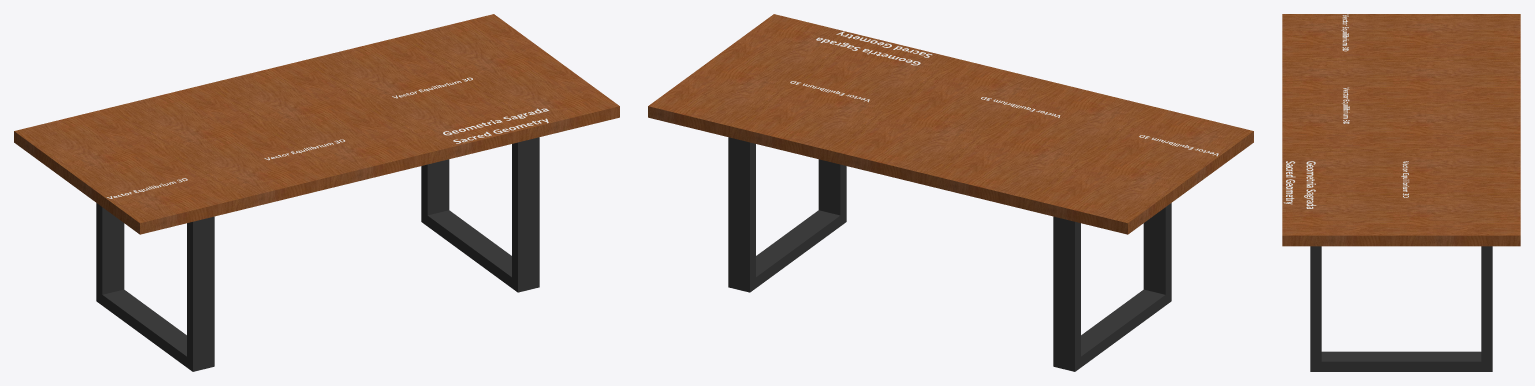
File: geomSagrada7.glb
3 renders of one model, left to right at view 1: azimuth 30°, elevation 25°; view 2: azimuth 150°, elevation 25°; view 3: azimuth 270°, elevation 25°, orthographic. The views are drawn at different scales.
Parts seen in each view (by area): view 1: object 1, Composant#1 (×2), Geometria Sagrad; view 2: object 1, Composant#1 (×2), Geometria Sagrad; view 3: object 1, Composant#1, Geometria Sagrad.
Boxes of the visible parts, x1,y1,x2,y2 form: object 1: [14, 14, 619, 234]; Composant#1 (×2): [96, 137, 539, 371]; Geometria Sagrad: [443, 108, 548, 143]; object 1: [648, 14, 1253, 234]; Composant#1 (×2): [728, 137, 1171, 371]; Geometria Sagrad: [816, 31, 932, 65]; object 1: [1282, 14, 1520, 246]; Composant#1: [1310, 246, 1492, 371]; Geometria Sagrad: [1283, 161, 1316, 208].
Size of the model in its own units: 2.2 by 0.7711 by 1.
Materials: 3 (1 with a texture image).
